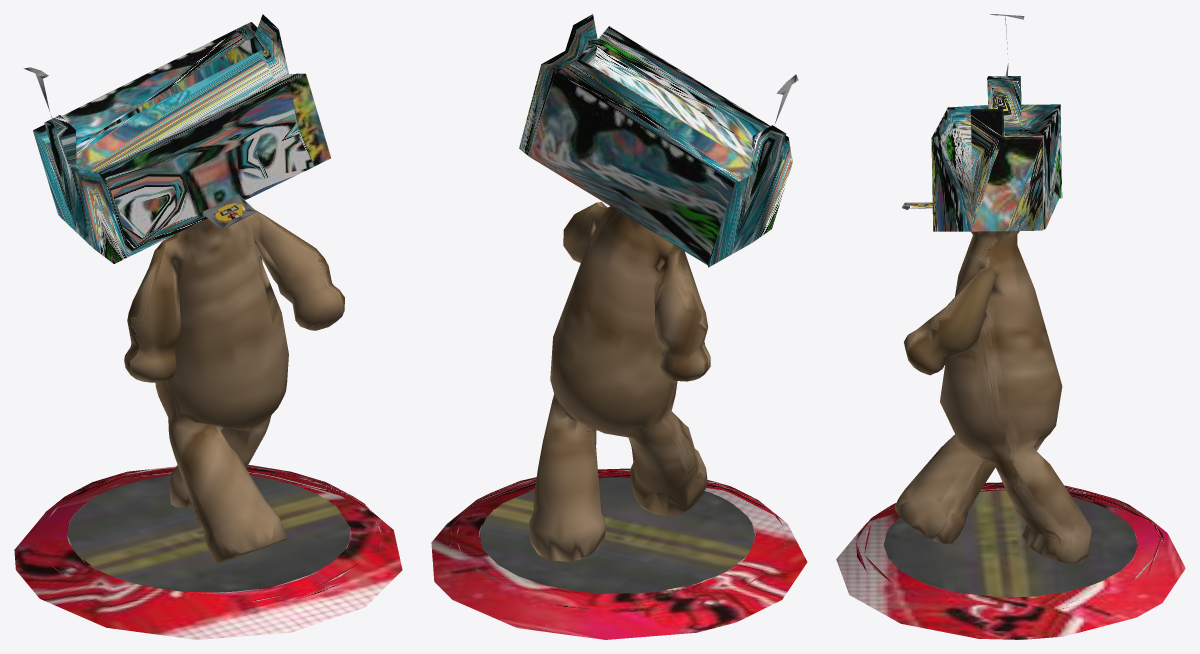
The picture shows the model from 3 angles, left to right: view 1: azimuth 30°, elevation 25°; view 2: azimuth 150°, elevation 25°; view 3: azimuth 270°, elevation 25°; orthographic projection. The views are drawn at different scales.
Size of the model in its own units: 1.48 by 2.18 by 1.44.
Materials: 8 (5 with a texture image).
